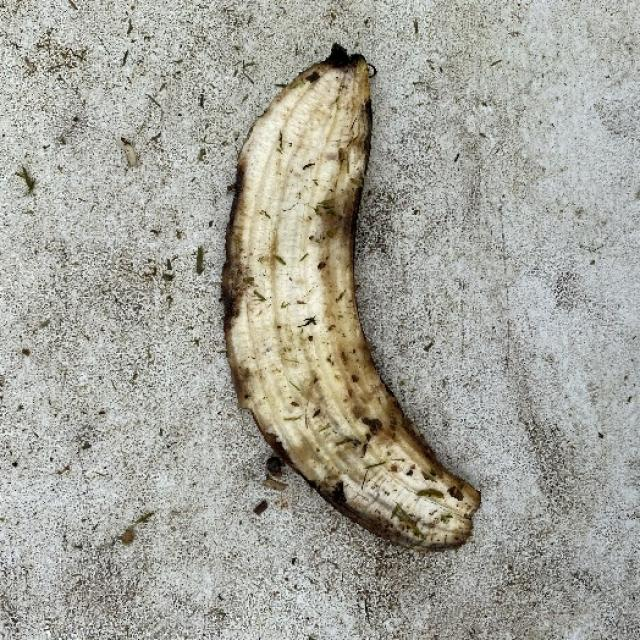organik: (214, 42, 492, 564)
